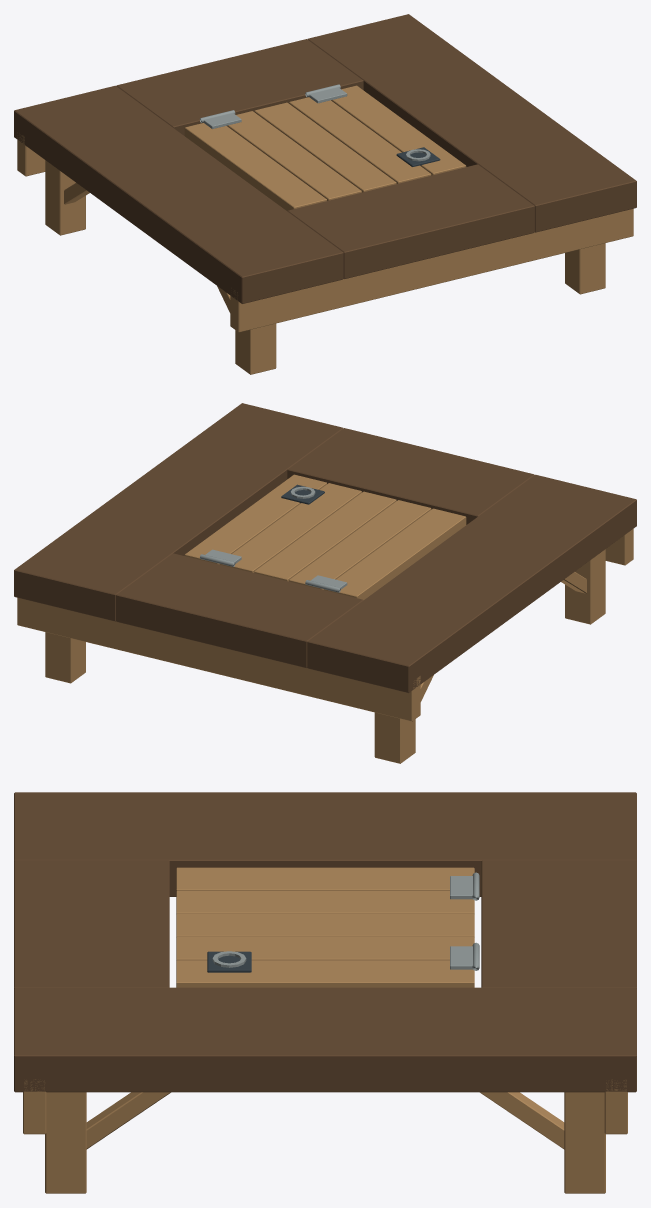
Rendered from S017_trapdoor_platform_rebuilt.glb.
The picture shows the model from 3 angles, top to bottom: view 1: azimuth 30°, elevation 25°; view 2: azimuth 150°, elevation 25°; view 3: azimuth 270°, elevation 25°; orthographic projection. The views are drawn at different scales.
Parts seen in each view (by area): view 1: Dark_stained_structural_timber, Scenic_framing_warm_bare_timber, Bare_brushed_hardware; view 2: Dark_stained_structural_timber, Scenic_framing_warm_bare_timber, Bare_brushed_hardware; view 3: Dark_stained_structural_timber, Scenic_framing_warm_bare_timber, Bare_brushed_hardware, Dark_painted_steel.
Boxes of the visible parts, x1,y1,x2,y2 form: Dark_stained_structural_timber: [14, 14, 636, 303]; Scenic_framing_warm_bare_timber: [17, 85, 633, 374]; Bare_brushed_hardware: [200, 84, 430, 161]; Dark_stained_structural_timber: [14, 403, 636, 692]; Scenic_framing_warm_bare_timber: [17, 474, 633, 763]; Bare_brushed_hardware: [200, 486, 347, 592]; Dark_stained_structural_timber: [14, 792, 636, 1092]; Scenic_framing_warm_bare_timber: [23, 867, 627, 1193]; Bare_brushed_hardware: [212, 872, 479, 970]; Dark_painted_steel: [207, 951, 251, 972].
Size of the model in its own units: 2.4 by 0.6674 by 2.4.
